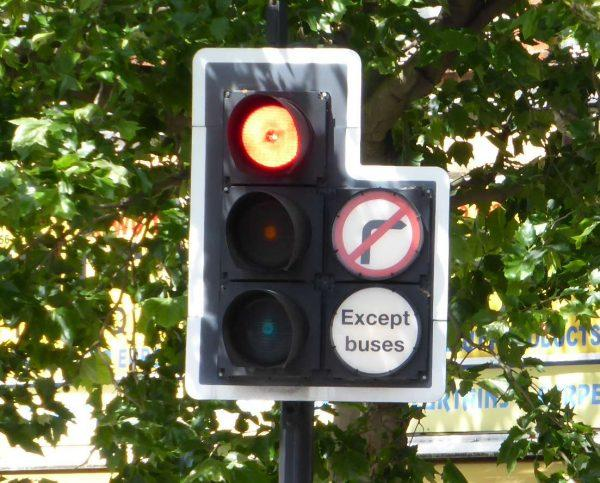no_right_turn: (329, 188, 422, 277)
